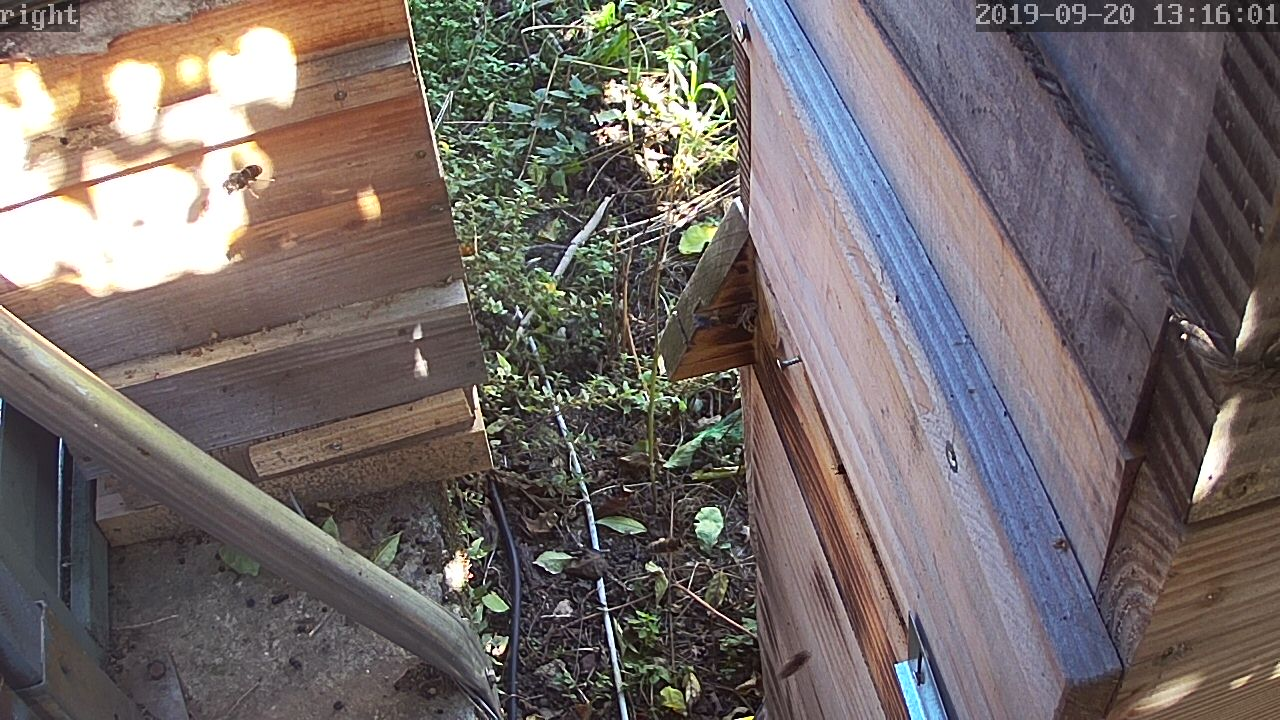bee: (774, 642, 809, 680), (642, 529, 682, 557)
hornet: (218, 159, 275, 203)
